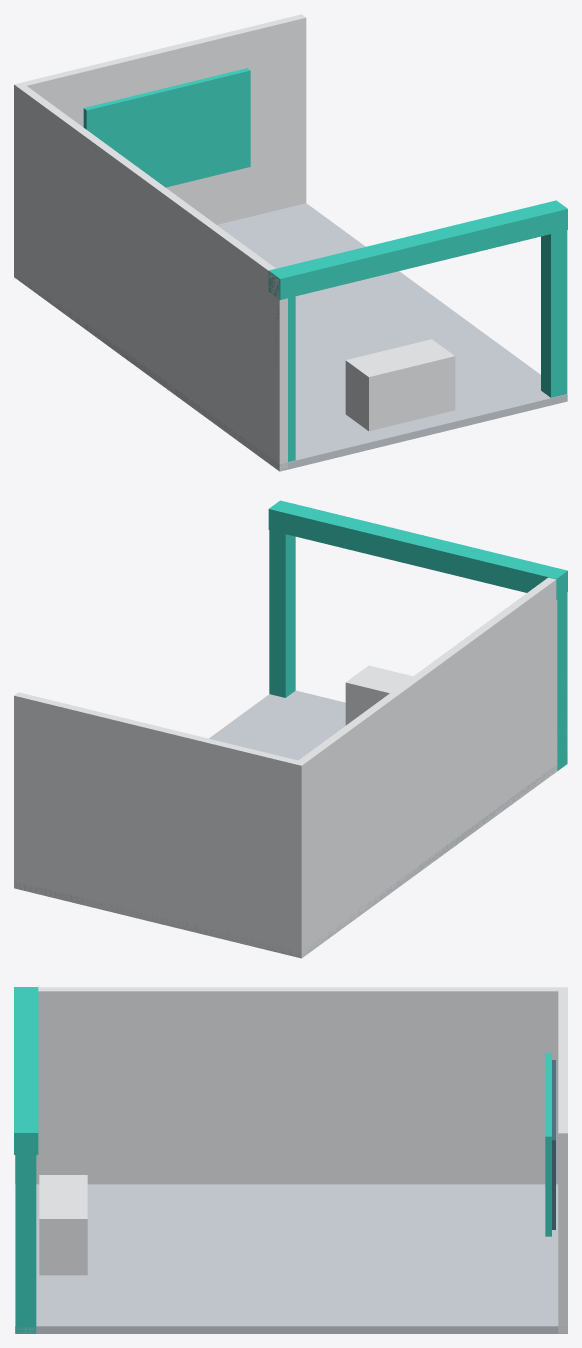
The picture shows the model from 3 angles, top to bottom: view 1: azimuth 30°, elevation 25°; view 2: azimuth 150°, elevation 25°; view 3: azimuth 270°, elevation 25°; orthographic projection. The views are drawn at different scales.
Visible parts, largest first — view 1: Exhibition Booth Concept; view 2: Exhibition Booth Concept; view 3: Exhibition Booth Concept.
Part boxes in pixels (x1,y1,x2,y2): Exhibition Booth Concept: (14,14,567,471); Exhibition Booth Concept: (14,500,567,958); Exhibition Booth Concept: (14,987,567,1333).
Bounding box in the file's own units: 5 × 3.2 × 8.01.
